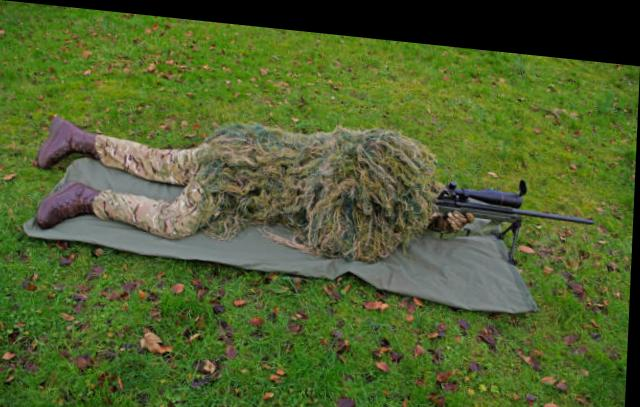other: (30, 97, 475, 262)
